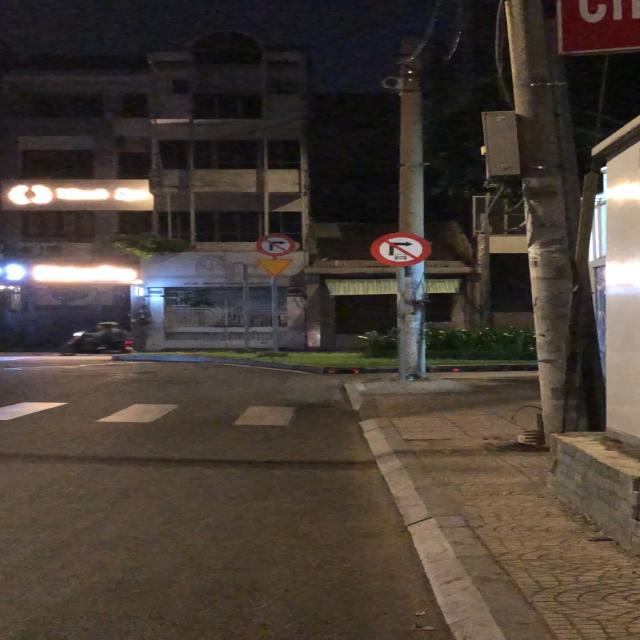Bien bao cam re phai: (255, 234, 295, 257)
Bien bao cam xe o to re phai: (369, 231, 438, 269)
Bien bao giao nhau voi duong uu tien: (254, 256, 296, 278)
